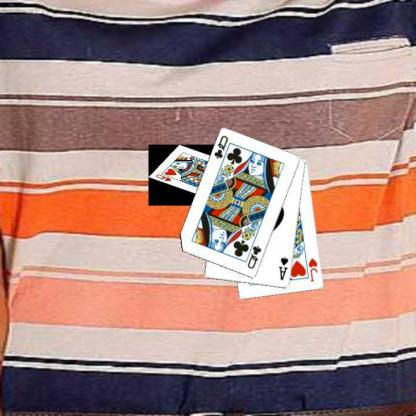AS: (276, 255, 290, 282)
JH: (306, 256, 319, 283)
QC: (211, 133, 230, 160), (245, 244, 263, 271)
